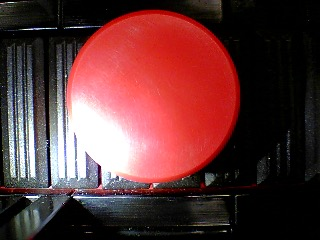BLANK: (66, 10, 240, 184)
